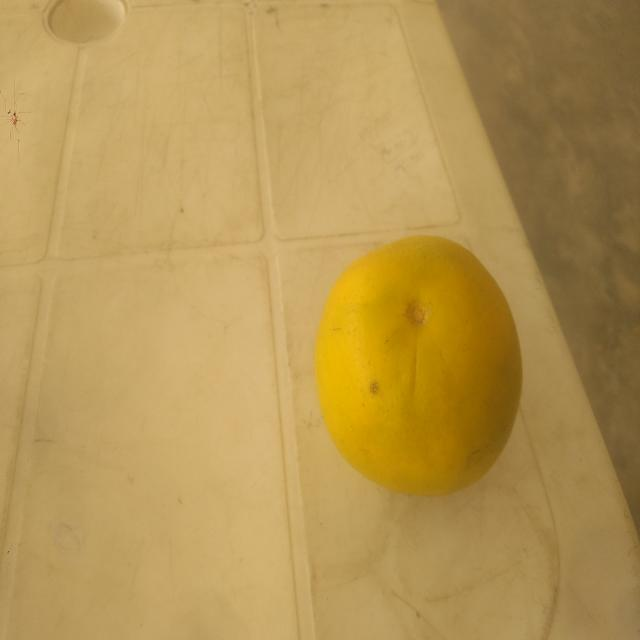Ripe orange: (294, 228, 541, 513)
